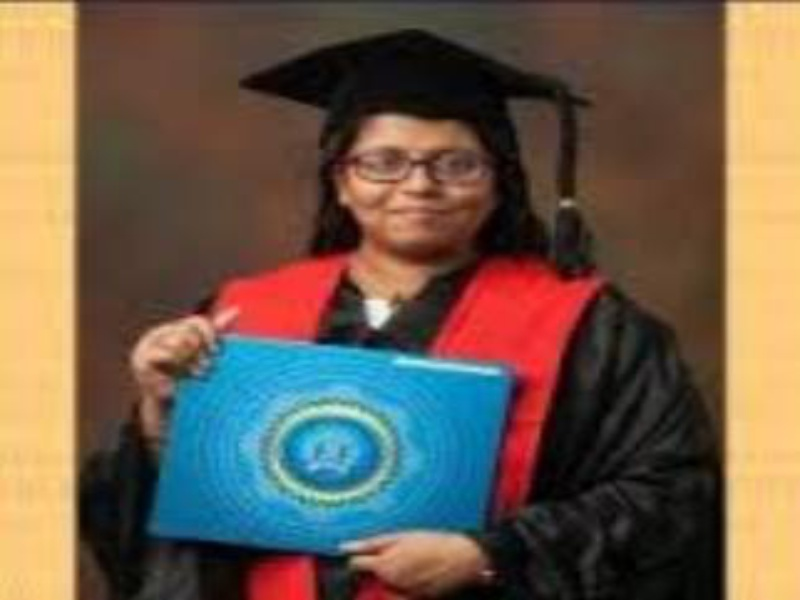TsisyArotava: (297, 42, 550, 288)
